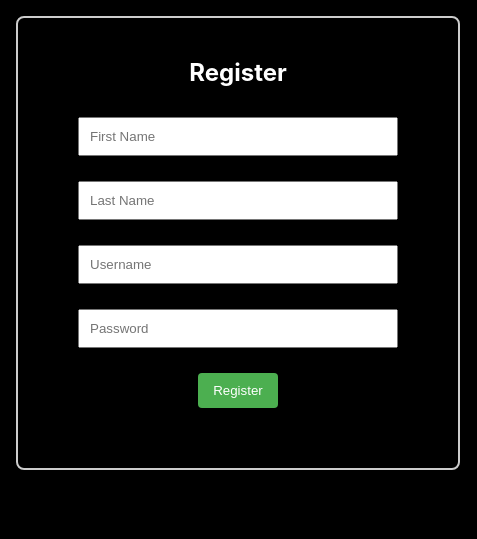
Test: Register Component › registers a user successfully
This screenshot has width=477, height=539.
Type "John" into the field with placeholder "First Name" at (238, 136), box top-left (78, 117), bottom-right (398, 156)
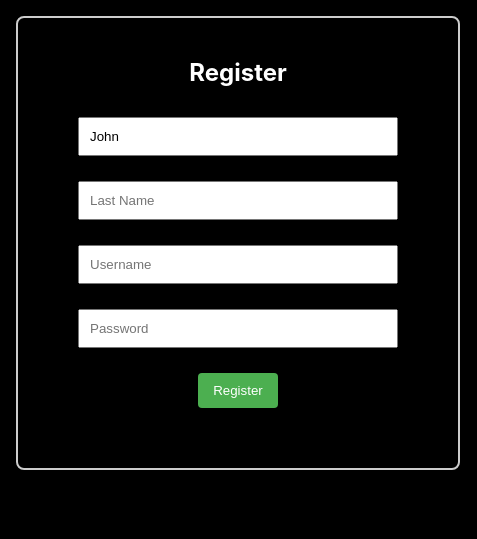
Type "Doe" into the field with placeholder "Last Name" at (238, 200), box top-left (78, 181), bottom-right (398, 220)
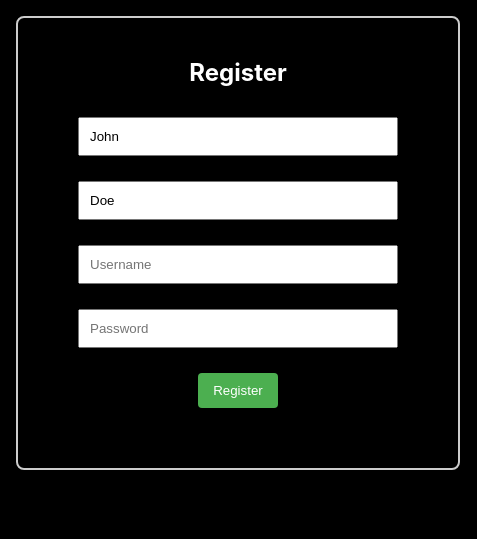
Type "johndoe" into the field with placeholder "Username" at (238, 264), box top-left (78, 245), bottom-right (398, 284)
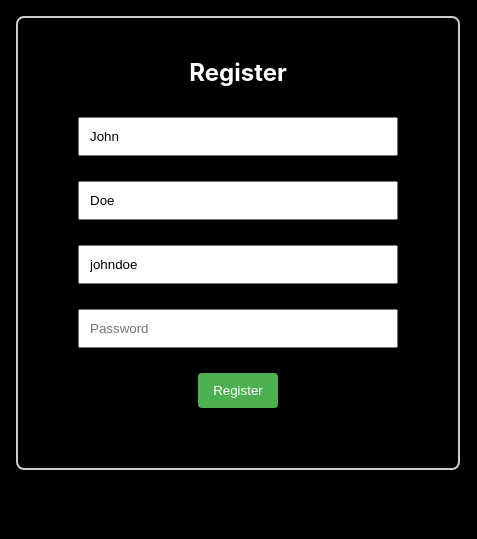
Type "password1" into the password field with placeholder "Password" at (238, 328), box top-left (78, 309), bottom-right (398, 348)
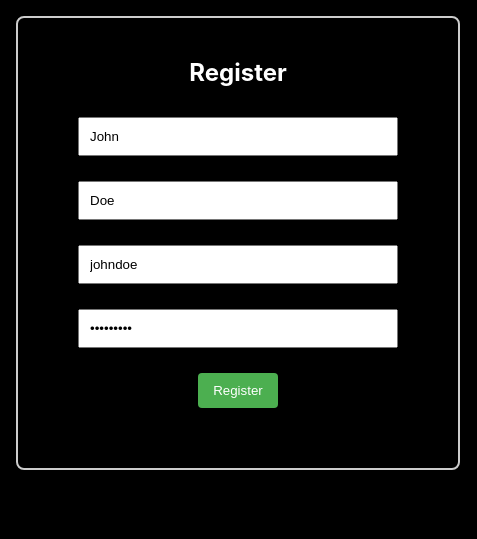
Click the button "Register" at (238, 390), box top-left (198, 373), bottom-right (278, 408)
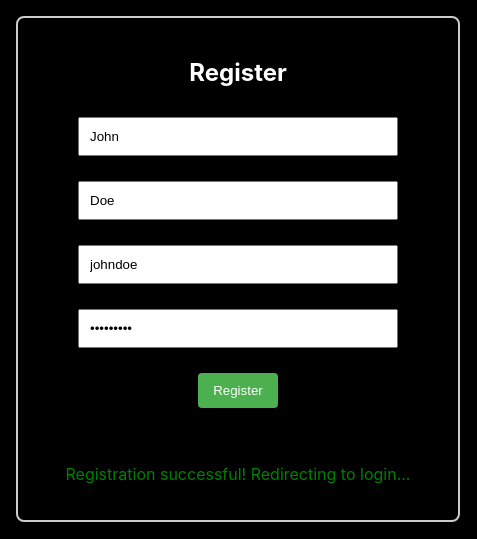
Result: the text "Registration successful! Redirecting to login..." is shown at top-left (38, 464), bottom-right (438, 484)
